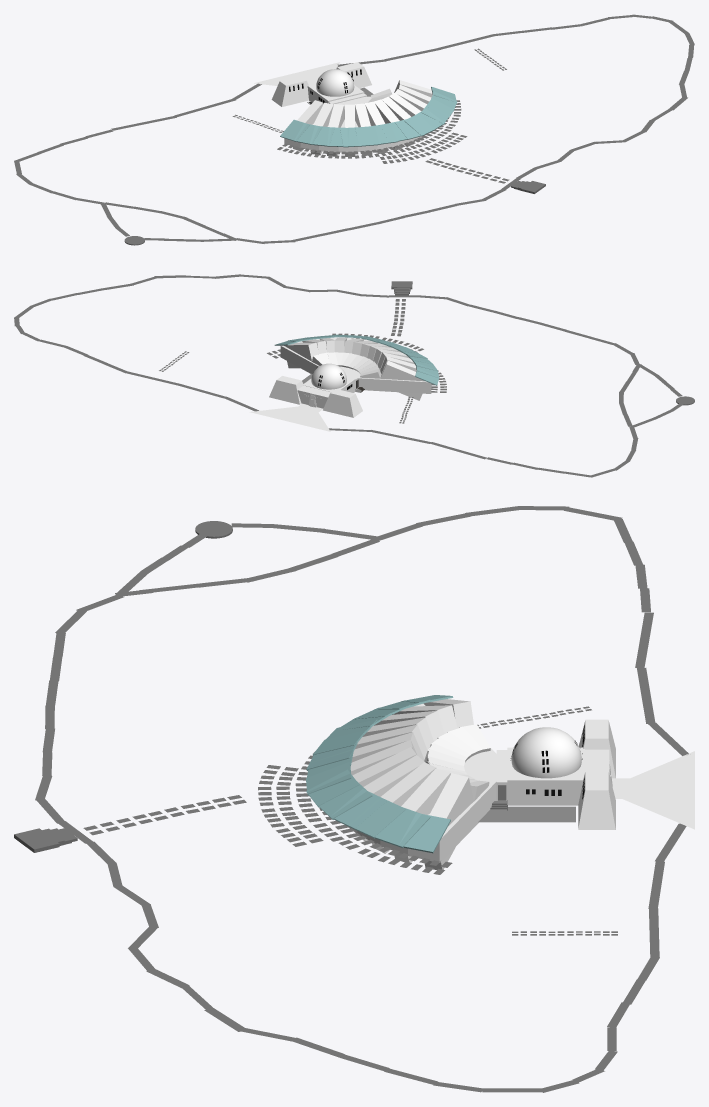
File: asmundarsafn_nyasta_utgafa_8.4_12.43.obj
The picture shows the model from 3 angles, top to bottom: view 1: azimuth 30°, elevation 25°; view 2: azimuth 150°, elevation 25°; view 3: azimuth 270°, elevation 25°; orthographic projection. The views are drawn at different scales.
Parts seen in each view (by area): view 1: der_yfir_thaki, thak, gangstett_i_kringum_hring, syningarsalur, Sphere, h_hlid, Plane.001, Plane, v_hlid, innanhus; view 2: thak, syningarsalur, der_yfir_thaki, Plane, h_hlid, Sphere, v_hlid, Plane.001, adaldyr, gangstett_i_kringum_hring; view 3: thak, der_yfir_thaki, gangstett_i_kringum_hring, Plane, Plane.001, syningarsalur, Sphere, innanhus, v_hlid, h_hlid, gangstett_ad_vatnsbera.
Boxes of the visible parts, x1,y1,x2,y2 form: der_yfir_thaki: (280, 86, 457, 147); thak: (293, 80, 432, 156); gangstett_i_kringum_hring: (277, 100, 467, 163); syningarsalur: (284, 96, 428, 152); Sphere: (316, 69, 354, 96); h_hlid: (271, 76, 308, 106); Plane.001: (124, 87, 545, 245); Plane: (254, 62, 339, 85); v_hlid: (336, 62, 371, 88); innanhus: (307, 83, 364, 103); thak: (284, 337, 424, 400); syningarsalur: (280, 337, 431, 393); der_yfir_thaki: (274, 334, 439, 385); Plane: (249, 406, 330, 431); h_hlid: (323, 389, 362, 417); Sphere: (311, 363, 346, 389); v_hlid: (269, 376, 303, 404); Plane.001: (302, 281, 694, 405); adaldyr: (297, 385, 330, 408); gangstett_i_kringum_hring: (267, 333, 446, 392); thak: (350, 699, 490, 869); der_yfir_thaki: (306, 695, 453, 853); gangstett_i_kringum_hring: (258, 752, 452, 874); Plane: (623, 751, 694, 829); Plane.001: (14, 521, 575, 852); syningarsalur: (349, 703, 496, 862); Sphere: (511, 727, 581, 778); innanhus: (507, 747, 584, 805); v_hlid: (578, 771, 615, 829); h_hlid: (578, 719, 615, 778); gangstett_ad_vatnsbera: (83, 795, 246, 835).
Bounding box in the file's own units: 148 × 8.94 × 72.34.
